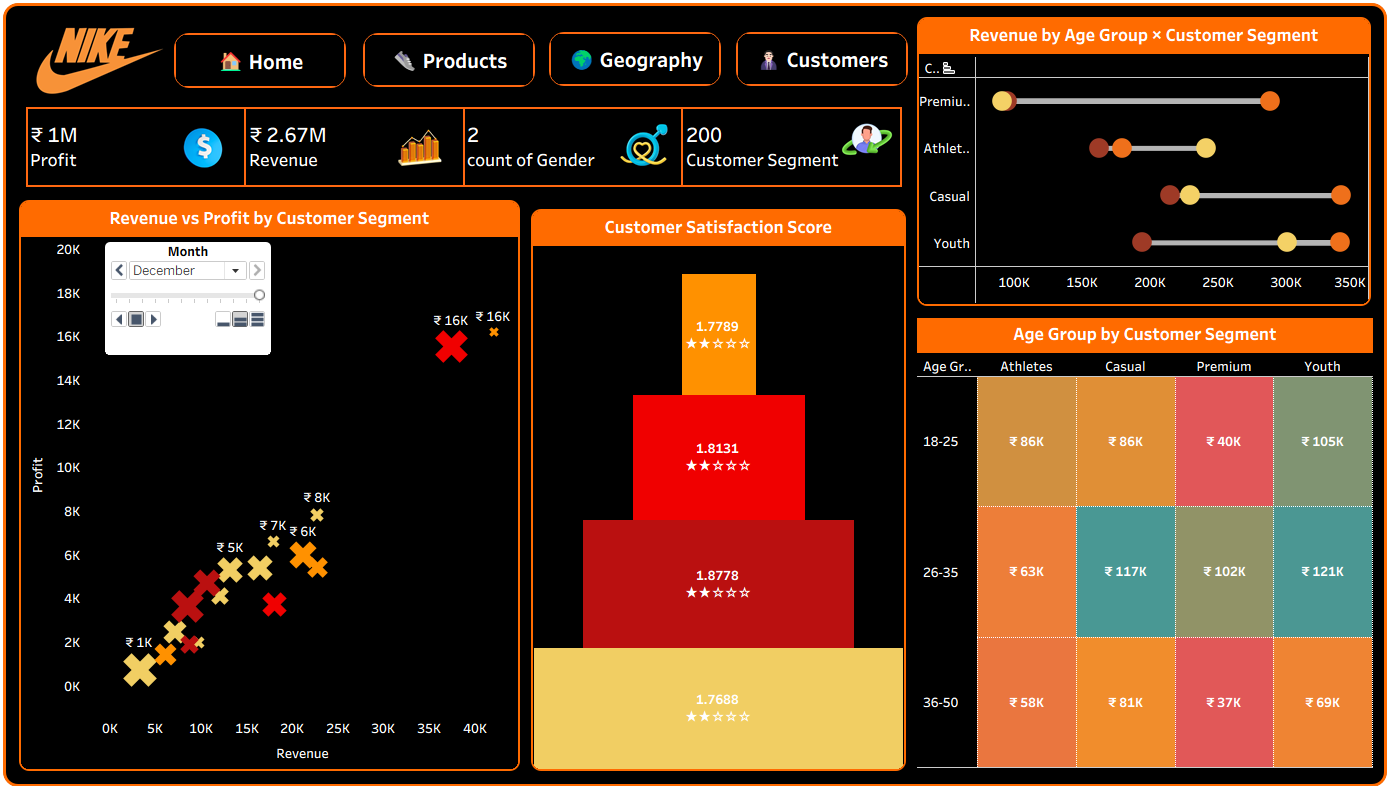

Layout of this report page (visuals, bound fields, positions):
{"tool":"tableau","page":{"name":"👥 Customers","canvas":[1400,800],"ordinal":3},"visuals":[{"type":"worksheet","title":"Revenue by Age Group - 4","mark":"Automatic","rows":["Customer Segment"],"cols":["Revenue","Revenue"],"box":[918,18,462,297]},{"type":"image","param":"Image/nike-logo-png_seeklogo-99488-removebg-preview.png","box":[31,22,146,81]},{"type":"dashboard-object","box":[554,37,172,54]},{"type":"dashboard-object","box":[741,37,172,54]},{"type":"dashboard-object","box":[179,38,172,55]},{"type":"dashboard-object","box":[368,38,172,54]},{"type":"worksheet","title":"KPI CARDS (4)","mark":"Automatic","box":[26,107,885,89]},{"type":"image","param":"Image/Screenshot_16-6-2026_233818_www.magnific.com-removebg-preview.png","box":[839,112,64,65]},{"type":"image","param":"Image/30932248_7719580-removebg-preview.png","box":[616,120,65,62]},{"type":"image","param":"Image/421081471_db121e62-0b65-4a2b-8329-fd8b86a96f64-removebg-preview.png","box":[176,121,63,64]},{"type":"image","param":"Image/351686995_cfe33d3d-c9b6-45ae-b96b-c2e7d1433fd7-removebg-preview.png","box":[392,123,65,59]},{"type":"worksheet","title":"Revenue by Customer Segment - 4","mark":"Shape","rows":["Profit"],"cols":["Revenue"],"box":[20,201,509,579]},{"type":"worksheet","title":"Customer Satisfaction Score","mark":"Bar","rows":["Calculation_1726246551121946"],"box":[532,210,383,570]},{"type":"currpage","title":"Revenue by Customer Segment - 4","box":[110,247,166,113]},{"type":"worksheet","title":"Age Group × Customer Segment - 4","mark":"Square","rows":["Age Group"],"cols":["Customer Segment"],"box":[918,319,464,458]}]}

Visuals, with their boxes in screenshot pixels (x1, y1, x2, y2), scaled from the page's 1400x800 canvas onto the 1388x786 screenshot:
"Revenue by Age Group - 4" worksheet: <region>910, 18, 1368, 309</region>
image: <region>31, 22, 175, 101</region>
dashboard-object: <region>549, 36, 720, 89</region>
dashboard-object: <region>735, 36, 905, 89</region>
dashboard-object: <region>177, 37, 348, 91</region>
dashboard-object: <region>365, 37, 535, 90</region>
"KPI CARDS (4)" worksheet: <region>26, 105, 903, 193</region>
image: <region>832, 110, 895, 174</region>
image: <region>611, 118, 675, 179</region>
image: <region>174, 119, 237, 182</region>
image: <region>389, 121, 453, 179</region>
"Revenue by Customer Segment - 4" worksheet (Shape marks): <region>20, 197, 524, 766</region>
"Customer Satisfaction Score" worksheet (Bar marks): <region>527, 206, 907, 766</region>
"Revenue by Customer Segment - 4" currpage: <region>109, 243, 274, 354</region>
"Age Group × Customer Segment - 4" worksheet (Square marks): <region>910, 313, 1370, 763</region>
